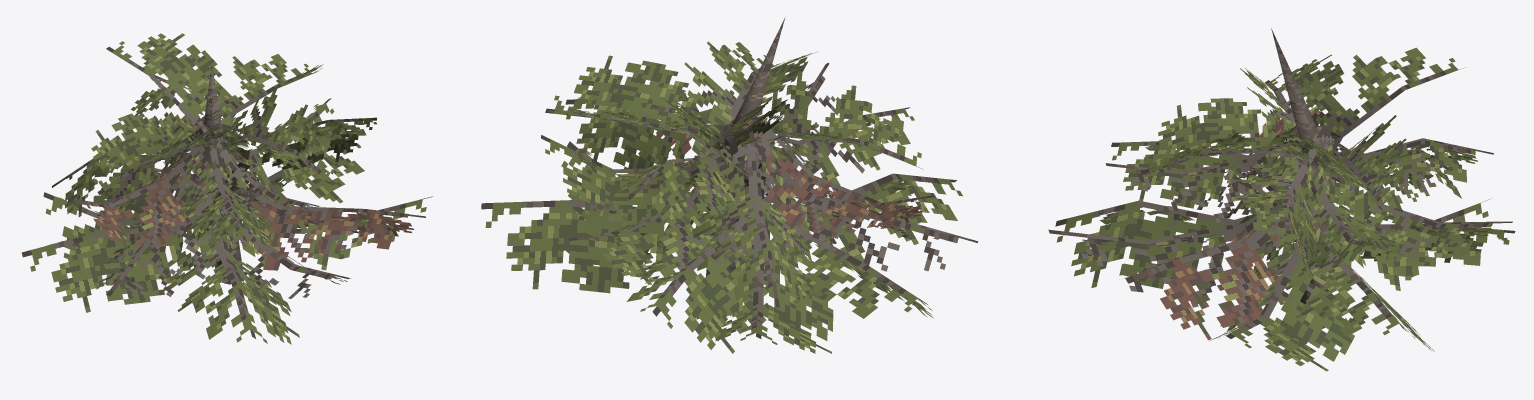
File: SpruceBush.glb
The picture shows the model from 3 angles, left to right: view 1: azimuth 30°, elevation 25°; view 2: azimuth 150°, elevation 25°; view 3: azimuth 270°, elevation 25°; orthographic projection. The views are drawn at different scales.
Visible parts, largest first — view 1: SpruceBush; view 2: SpruceBush; view 3: SpruceBush.
Boxes of the visible parts, x1,y1,x2,y2 form: SpruceBush: [21, 33, 432, 344]; SpruceBush: [481, 17, 978, 353]; SpruceBush: [1048, 28, 1515, 371].
Size of the model in its own units: 3.25 by 1.96 by 3.09.
2 materials, 2 textured.
